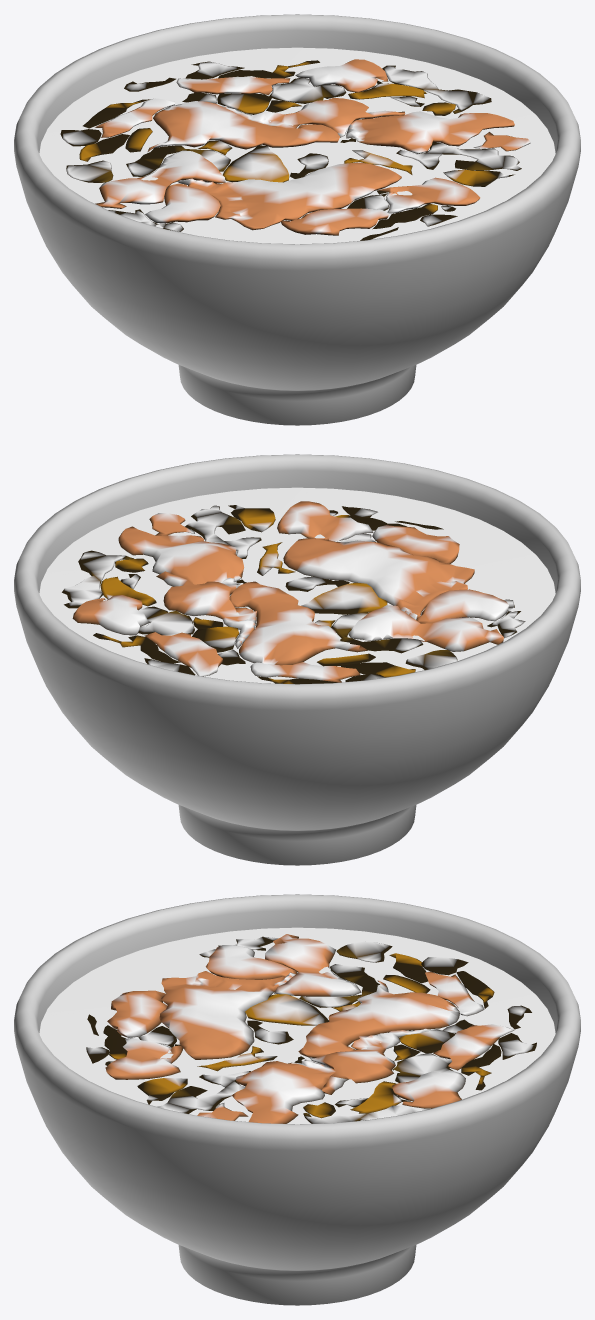
The picture shows the model from 3 angles, top to bottom: view 1: azimuth 30°, elevation 25°; view 2: azimuth 150°, elevation 25°; view 3: azimuth 270°, elevation 25°; orthographic projection.
Parts seen in each view (by area): view 1: SM_D20; view 2: SM_D20; view 3: SM_D20.
Boxes of the visible parts, left/top/right/bottom form: SM_D20: left=14, top=14, right=580, bottom=425; SM_D20: left=14, top=454, right=580, bottom=865; SM_D20: left=14, top=894, right=580, bottom=1305.
Bounding box in the file's own units: 0.17 × 0.082 × 0.17.
